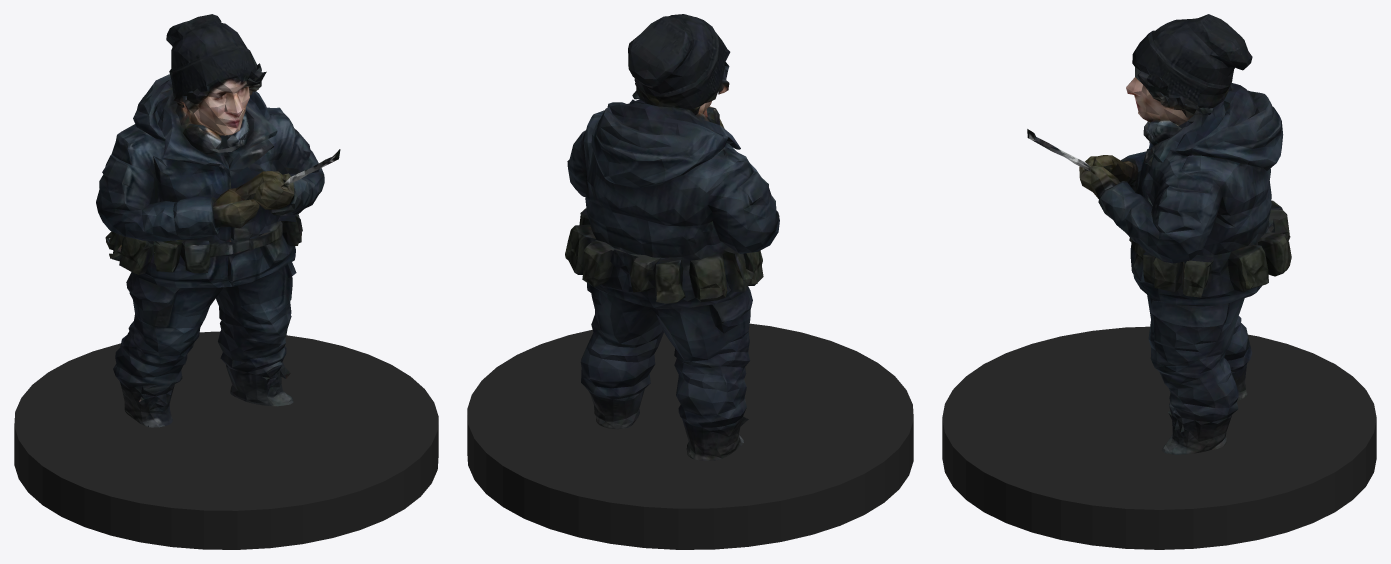
The model's file is carla-thompson.glb.
3 views of the same model, side by side, from view 1: azimuth 30°, elevation 25°; view 2: azimuth 150°, elevation 25°; view 3: azimuth 270°, elevation 25° (orthographic). The views are drawn at different scales.
Parts seen in each view (by area): view 1: base, figure; view 2: base, figure; view 3: base, figure.
Boxes of the visible parts, x1,y1,x2,y2 form: base: (14, 331, 438, 549); figure: (96, 14, 340, 427); base: (467, 323, 913, 549); figure: (565, 14, 779, 460); base: (942, 326, 1376, 549); figure: (1027, 14, 1291, 454).
Bounding box in the file's own units: 1.18 × 1.32 × 1.18.
2 materials, 1 textured.
